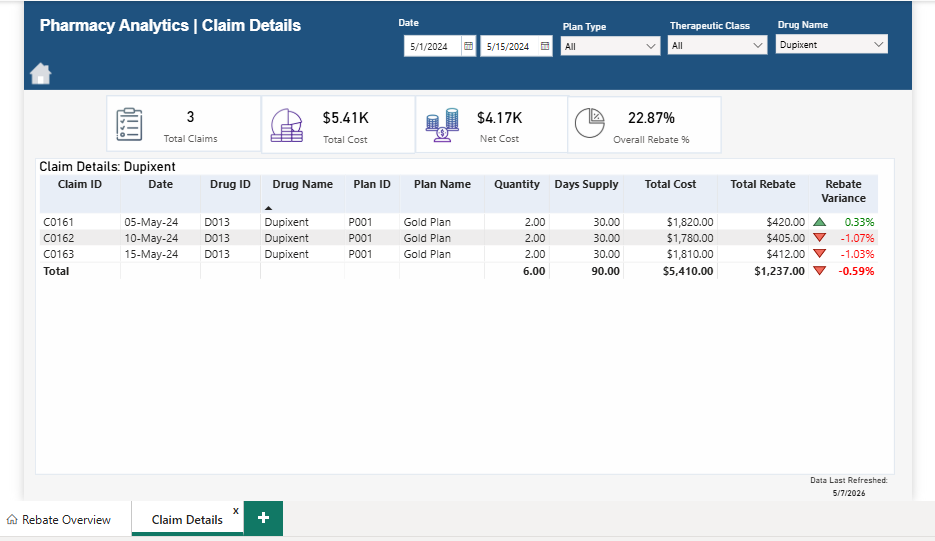

This screenshot's page, from the dashboard's own definition file:
{"tool":"powerbi","page":{"name":"Claim Details","canvas":[1280,720],"ordinal":2},"visuals":[{"type":"card","title":"Data Last Refreshed:","fields":{"Values":["Min(RefreshDate.RefreshDate)"]},"box":[1094.4,682.6,159.8,37.4],"z":0},{"type":"tableEx","fields":{"Values":["Claims.Claim_ID","Claims.Date","Claims.Drug_ID","Drugs.Drug_Name","Claims.Plan_ID","Plans.Plan_Name","Sum(Claims.Quantity)","Sum(Claims.Days_Supply)","Claims.Total Cost","Claims.Total Rebate","Claims.Rebate Variance %","select"]},"box":[15.8,187.2,1238.4,495.4],"z":1000},{"type":"shape","box":[0,0,1280.2,128.2],"z":2000},{"type":"image","box":[53.3,82.1,47.5,41.8],"z":3000},{"type":"slicer","fields":{"Values":["Drugs.Drug_Name"]},"box":[1073.2,20.2,181.1,57.6],"z":4000},{"type":"slicer","fields":{"Values":["Drugs.Therapeutic_Class"]},"box":[917.3,21.6,162.7,59],"z":5000},{"type":"slicer","fields":{"Values":["Plans.Plan_Type"]},"box":[763.2,23,162.7,60.5],"z":6000},{"type":"slicer","title":"Date","fields":{"Values":["Claims.Date"]},"box":[534.2,23,234.7,60.5],"z":7000},{"type":"actionButton","box":[15.8,146.9,1238.4,33.1],"z":8000},{"type":"image","box":[13,89.3,38.9,30.2],"z":9000},{"type":"group","id":"g1","title":"Group 13","box":[104.3,83.7,153,40.4],"z":10000},{"type":"actionButton","box":[104.3,83.7,152.8,38.9],"z":17000,"group":"g1"},{"type":"actionButton","box":[104.3,85.1,153,39],"z":18000,"group":"g1"}]}

Visuals, with their boxes in screenshot pixels (x1, y1, x2, y2), scaled from the page's 1280x720 canvas onto the 935x541 screenshot:
"Data Last Refreshed:" card: detection(799, 513, 916, 540)
tableEx - Claims.Claim_ID x Claims.Date: detection(12, 141, 916, 513)
shape: detection(0, 0, 934, 96)
image: detection(39, 62, 74, 93)
slicer - Drugs.Drug_Name: detection(784, 15, 916, 58)
slicer - Drugs.Therapeutic_Class: detection(670, 16, 789, 61)
slicer - Plans.Plan_Type: detection(557, 17, 676, 63)
"Date" slicer: detection(390, 17, 562, 63)
actionButton: detection(12, 110, 916, 135)
image: detection(9, 67, 38, 90)
"Group 13" group: detection(76, 63, 188, 93)
actionButton: detection(76, 63, 188, 92)
actionButton: detection(76, 64, 188, 93)
